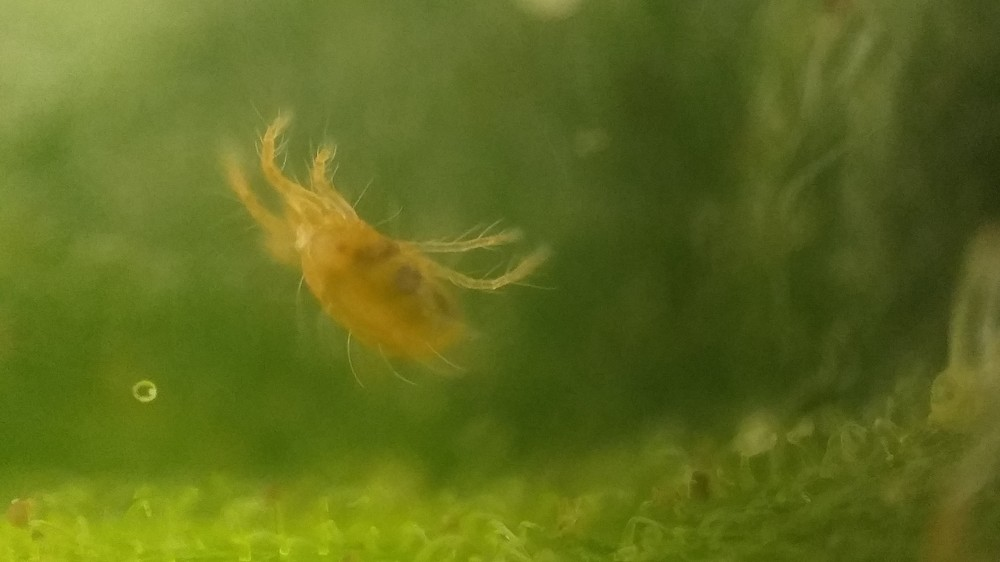Aracnido Rojo: (201, 106, 579, 413)
